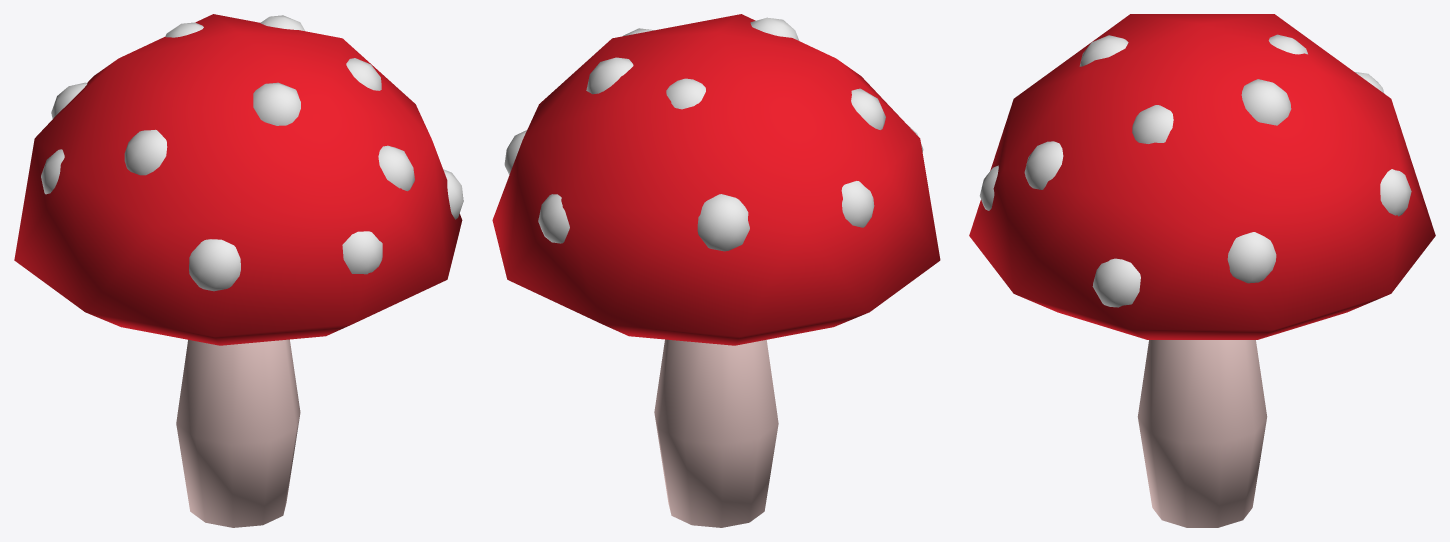
Rendered from mush.fbx.
3 renders of one model, left to right at view 1: azimuth 30°, elevation 25°; view 2: azimuth 150°, elevation 25°; view 3: azimuth 270°, elevation 25°, orthographic.
Visible parts, largest first — view 1: Icosphere, Cube, Icosphere.002, Icosphere.003, Icosphere.011, Icosphere.001, Icosphere.005, Icosphere.004, Icosphere.007, Icosphere.013; view 2: Icosphere, Cube, Icosphere.010, Icosphere.007, Icosphere.008, Icosphere.012, Icosphere.006, Icosphere.011, Icosphere.003; view 3: Icosphere, Cube, Icosphere.009, Icosphere.013, Icosphere.012, Icosphere.005, Icosphere.004, Icosphere.008, Icosphere.003.
Part boxes in pixels (x1=…): Icosphere: x1=14, y1=14, x2=462, y2=345; Cube: x1=176, y1=339, x2=300, y2=527; Icosphere.002: x1=189, y1=239, x2=240, y2=291; Icosphere.003: x1=253, y1=82, x2=300, y2=125; Icosphere.011: x1=124, y1=129, x2=167, y2=175; Icosphere.001: x1=342, y1=231, x2=382, y2=274; Icosphere.005: x1=378, y1=145, x2=414, y2=191; Icosphere.004: x1=346, y1=58, x2=381, y2=90; Icosphere.007: x1=41, y1=149, x2=64, y2=194; Icosphere.013: x1=443, y1=169, x2=463, y2=219; Icosphere: x1=492, y1=14, x2=940, y2=345; Cube: x1=654, y1=339, x2=778, y2=527; Icosphere.010: x1=697, y1=194, x2=749, y2=251; Icosphere.007: x1=841, y1=181, x2=874, y2=227; Icosphere.008: x1=538, y1=194, x2=569, y2=243; Icosphere.012: x1=586, y1=57, x2=633, y2=94; Icosphere.006: x1=666, y1=78, x2=705, y2=109; Icosphere.011: x1=851, y1=88, x2=885, y2=129; Icosphere.003: x1=750, y1=17, x2=799, y2=40; Icosphere: x1=969, y1=14, x2=1435, y2=339; Cube: x1=1137, y1=340, x2=1267, y2=527; Icosphere.009: x1=1227, y1=232, x2=1276, y2=283; Icosphere.013: x1=1092, y1=258, x2=1140, y2=307; Icosphere.012: x1=1241, y1=79, x2=1291, y2=125; Icosphere.005: x1=1024, y1=141, x2=1063, y2=189; Icosphere.004: x1=1132, y1=105, x2=1173, y2=143; Icosphere.008: x1=1380, y1=169, x2=1411, y2=216; Icosphere.003: x1=1079, y1=35, x2=1128, y2=66.
Bounding box in the file's own units: 190 × 229 × 200.
